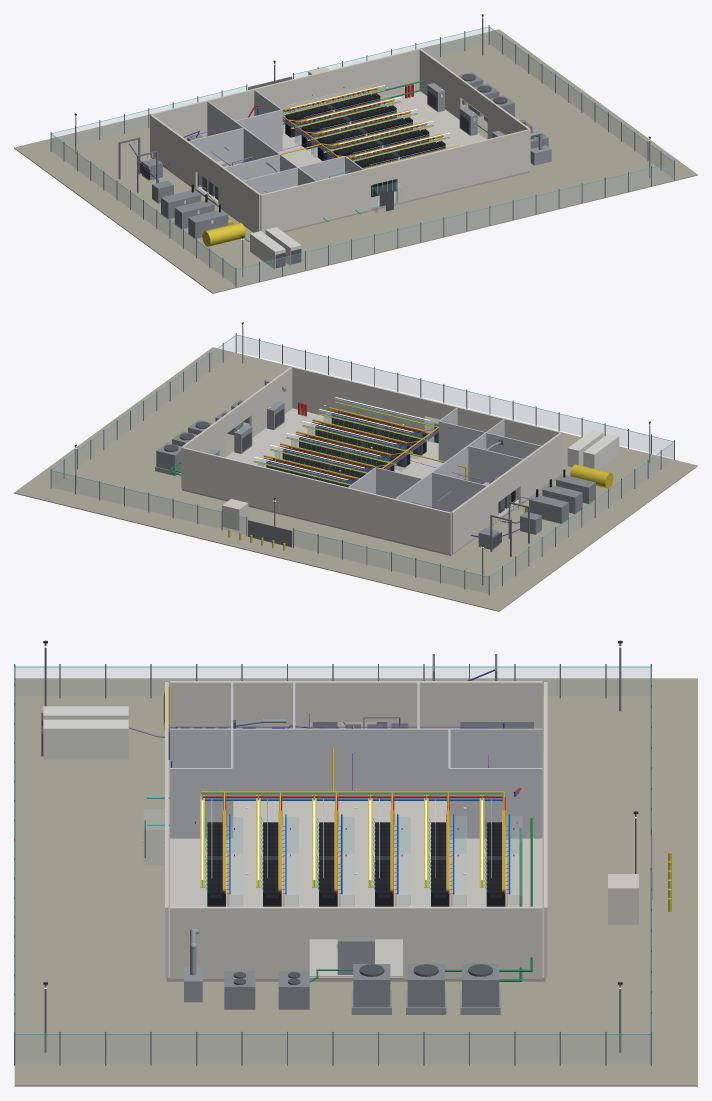
Rendered from hyperscale_campus.glb.
3 views of the same model, one above another, from view 1: azimuth 30°, elevation 25°; view 2: azimuth 150°, elevation 25°; view 3: azimuth 270°, elevation 25° (orthographic). The views are drawn at different scales.
Visible parts, largest first — view 1: site_ground, wall_south, SEC_fence_panel_north, wall_north_b, wall_north_a, slab_finish, SEC_fence_panel_west, SEC_fence_panel_east, SEC_fence_panel_south_w, wall_west_a, wall_west_b, part_west (+20 smaller); view 2: site_ground, wall_south, SEC_fence_panel_north, wall_north_b, SEC_fence_panel_south_w, SEC_fence_panel_south_e, slab_finish, SEC_fence_panel_west, SEC_fence_panel_east, wall_west_a, wall_west_b, part_west (+24 smaller); view 3: site_ground, slab_finish, part_west, SEC_fence_panel_east, SEC_fence_panel_west, wall_east_b, wall_east_a, wall_west_a, wall_west_b, part_chiller_e, part_mmr_e, PWR_bess_vertiv_bess (+25 smaller).
Part boxes in pixels (x1=…): site_ground: x1=14, y1=29, x2=697, y2=293; wall_south: x1=150, y1=48, x2=420, y2=154; SEC_fence_panel_north: x1=237, y1=162, x2=673, y2=285; wall_north_b: x1=396, y1=129, x2=530, y2=203; wall_north_a: x1=260, y1=168, x2=370, y2=233; slab_finish: x1=198, y1=91, x2=485, y2=208; SEC_fence_panel_west: x1=51, y1=134, x2=235, y2=284; SEC_fence_panel_east: x1=489, y1=27, x2=673, y2=177; SEC_fence_panel_south_w: x1=52, y1=86, x2=245, y2=149; wall_west_a: x1=150, y1=115, x2=197, y2=189; wall_west_b: x1=218, y1=164, x2=260, y2=232; part_west: x1=207, y1=101, x2=316, y2=185; site_ground: x1=14, y1=347, x2=697, y2=611; wall_south: x1=181, y1=447, x2=451, y2=554; SEC_fence_panel_north: x1=237, y1=335, x2=673, y2=457; wall_north_b: x1=291, y1=366, x2=425, y2=432; SEC_fence_panel_south_w: x1=294, y1=529, x2=488, y2=593; SEC_fence_panel_south_e: x1=51, y1=470, x2=245, y2=534; slab_finish: x1=226, y1=408, x2=518, y2=516; SEC_fence_panel_west: x1=490, y1=442, x2=673, y2=592; SEC_fence_panel_east: x1=52, y1=335, x2=235, y2=485; wall_west_a: x1=451, y1=479, x2=498, y2=553; wall_west_b: x1=518, y1=433, x2=561, y2=503; part_west: x1=395, y1=419, x2=504, y2=507; site_ground: x1=14, y1=678, x2=697, y2=1086; slab_finish: x1=170, y1=801, x2=542, y2=976; part_west: x1=170, y1=728, x2=542, y2=798; SEC_fence_panel_east: x1=15, y1=1034, x2=650, y2=1063; SEC_fence_panel_west: x1=15, y1=666, x2=650, y2=695; wall_east_b: x1=170, y1=906, x2=309, y2=978; wall_east_a: x1=403, y1=906, x2=542, y2=978; wall_west_a: x1=387, y1=681, x2=542, y2=728; wall_west_b: x1=170, y1=681, x2=309, y2=728; part_chiller_e: x1=449, y1=768, x2=542, y2=838; part_mmr_e: x1=170, y1=768, x2=231, y2=838; PWR_bess_vertiv_bess: x1=43, y1=719, x2=128, y2=759.
Size of the model in its own units: 62 by 5.35 by 44.04.
